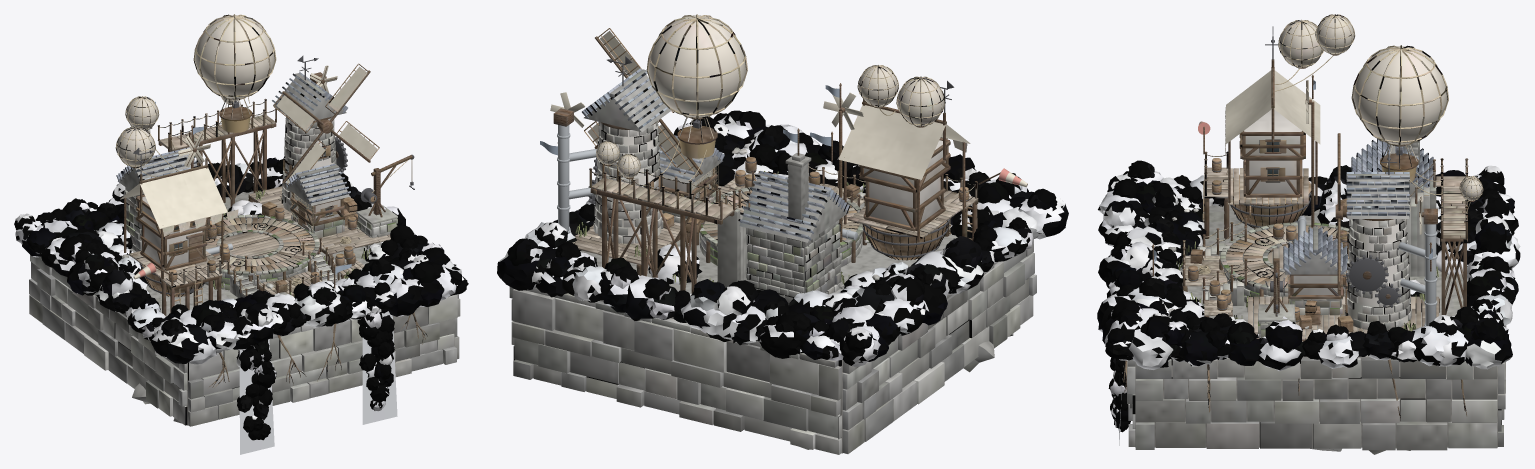
The model's file is Aire.glb.
3 renders of one model, left to right at view 1: azimuth 30°, elevation 25°; view 2: azimuth 150°, elevation 25°; view 3: azimuth 270°, elevation 25°, orthographic. The views are drawn at different scales.
Visible parts, largest first — view 1: Nubes, Acantilados, Globo_Aerostatico, Casa_Globo_Lona, Plataforma_Circular, Puente_Colgante, Molino_Aspas, Casa_Globo, Cascadas_Nube, Molino_Torre, Casa_Globo_Cubierta, Casita_Molino_Techo (+17 smaller); view 2: Acantilados, Nubes, Globo_Aerostatico, Puente_Colgante, Casa_Globo_Lona, Casa_Piedra, Casa_Globo, Casa_Piedra_Techo, Molino_Torre, Molino_Techo, Isla_Roca, Escalera_Puente (+14 smaller); view 3: Nubes, Acantilados, Globo_Aerostatico, Molino_Torre, Casa_Globo, Casa_Globo_Lona, Isla_Roca, Plataforma_Circular, Puente_Colgante, Molino_Techo, Casa_Globo_Cubierta, Casita_Molino_Techo (+20 smaller).
Part boxes in pixels (x1,y1,x2,y2): Nubes: [14, 157, 468, 440]; Acantilados: [29, 255, 460, 426]; Globo_Aerostatico: [193, 14, 276, 132]; Casa_Globo_Lona: [120, 148, 238, 279]; Plataforma_Circular: [205, 214, 319, 275]; Puente_Colgante: [157, 98, 276, 206]; Molino_Aspas: [273, 63, 379, 185]; Casa_Globo: [136, 194, 211, 270]; Cascadas_Nube: [239, 311, 397, 454]; Molino_Torre: [281, 115, 336, 212]; Casa_Globo_Cubierta: [129, 251, 223, 315]; Casita_Molino_Techo: [285, 164, 350, 205]; Acantilados: [509, 239, 1036, 454]; Nubes: [497, 110, 1068, 366]; Globo_Aerostatico: [646, 14, 747, 158]; Puente_Colgante: [589, 162, 737, 293]; Casa_Globo_Lona: [838, 80, 970, 242]; Casa_Piedra: [746, 220, 841, 304]; Casa_Globo: [858, 138, 950, 231]; Casa_Piedra_Techo: [738, 171, 850, 242]; Molino_Torre: [593, 121, 663, 243]; Molino_Techo: [582, 56, 671, 132]; Isla_Roca: [568, 186, 957, 453]; Escalera_Puente: [715, 184, 750, 287]; Nubes: [1097, 160, 1520, 432]; Acantilados: [1127, 325, 1506, 454]; Globo_Aerostatico: [1351, 45, 1448, 182]; Molino_Torre: [1344, 219, 1411, 329]; Casa_Globo: [1239, 109, 1305, 197]; Casa_Globo_Lona: [1225, 26, 1320, 204]; Isla_Roca: [1135, 205, 1497, 447]; Plataforma_Circular: [1220, 222, 1349, 292]; Puente_Colgante: [1436, 158, 1468, 314]; Molino_Techo: [1343, 144, 1409, 218]; Casa_Globo_Cubierta: [1204, 151, 1308, 238]; Casita_Molino_Techo: [1283, 226, 1347, 274].
Bounding box in the file's own units: 23.81 × 23.05 × 23.33.
163 materials, 148 textured.
